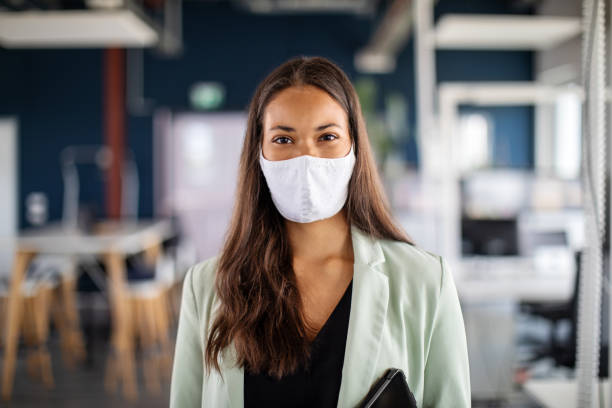with mask: (255, 81, 362, 222)
